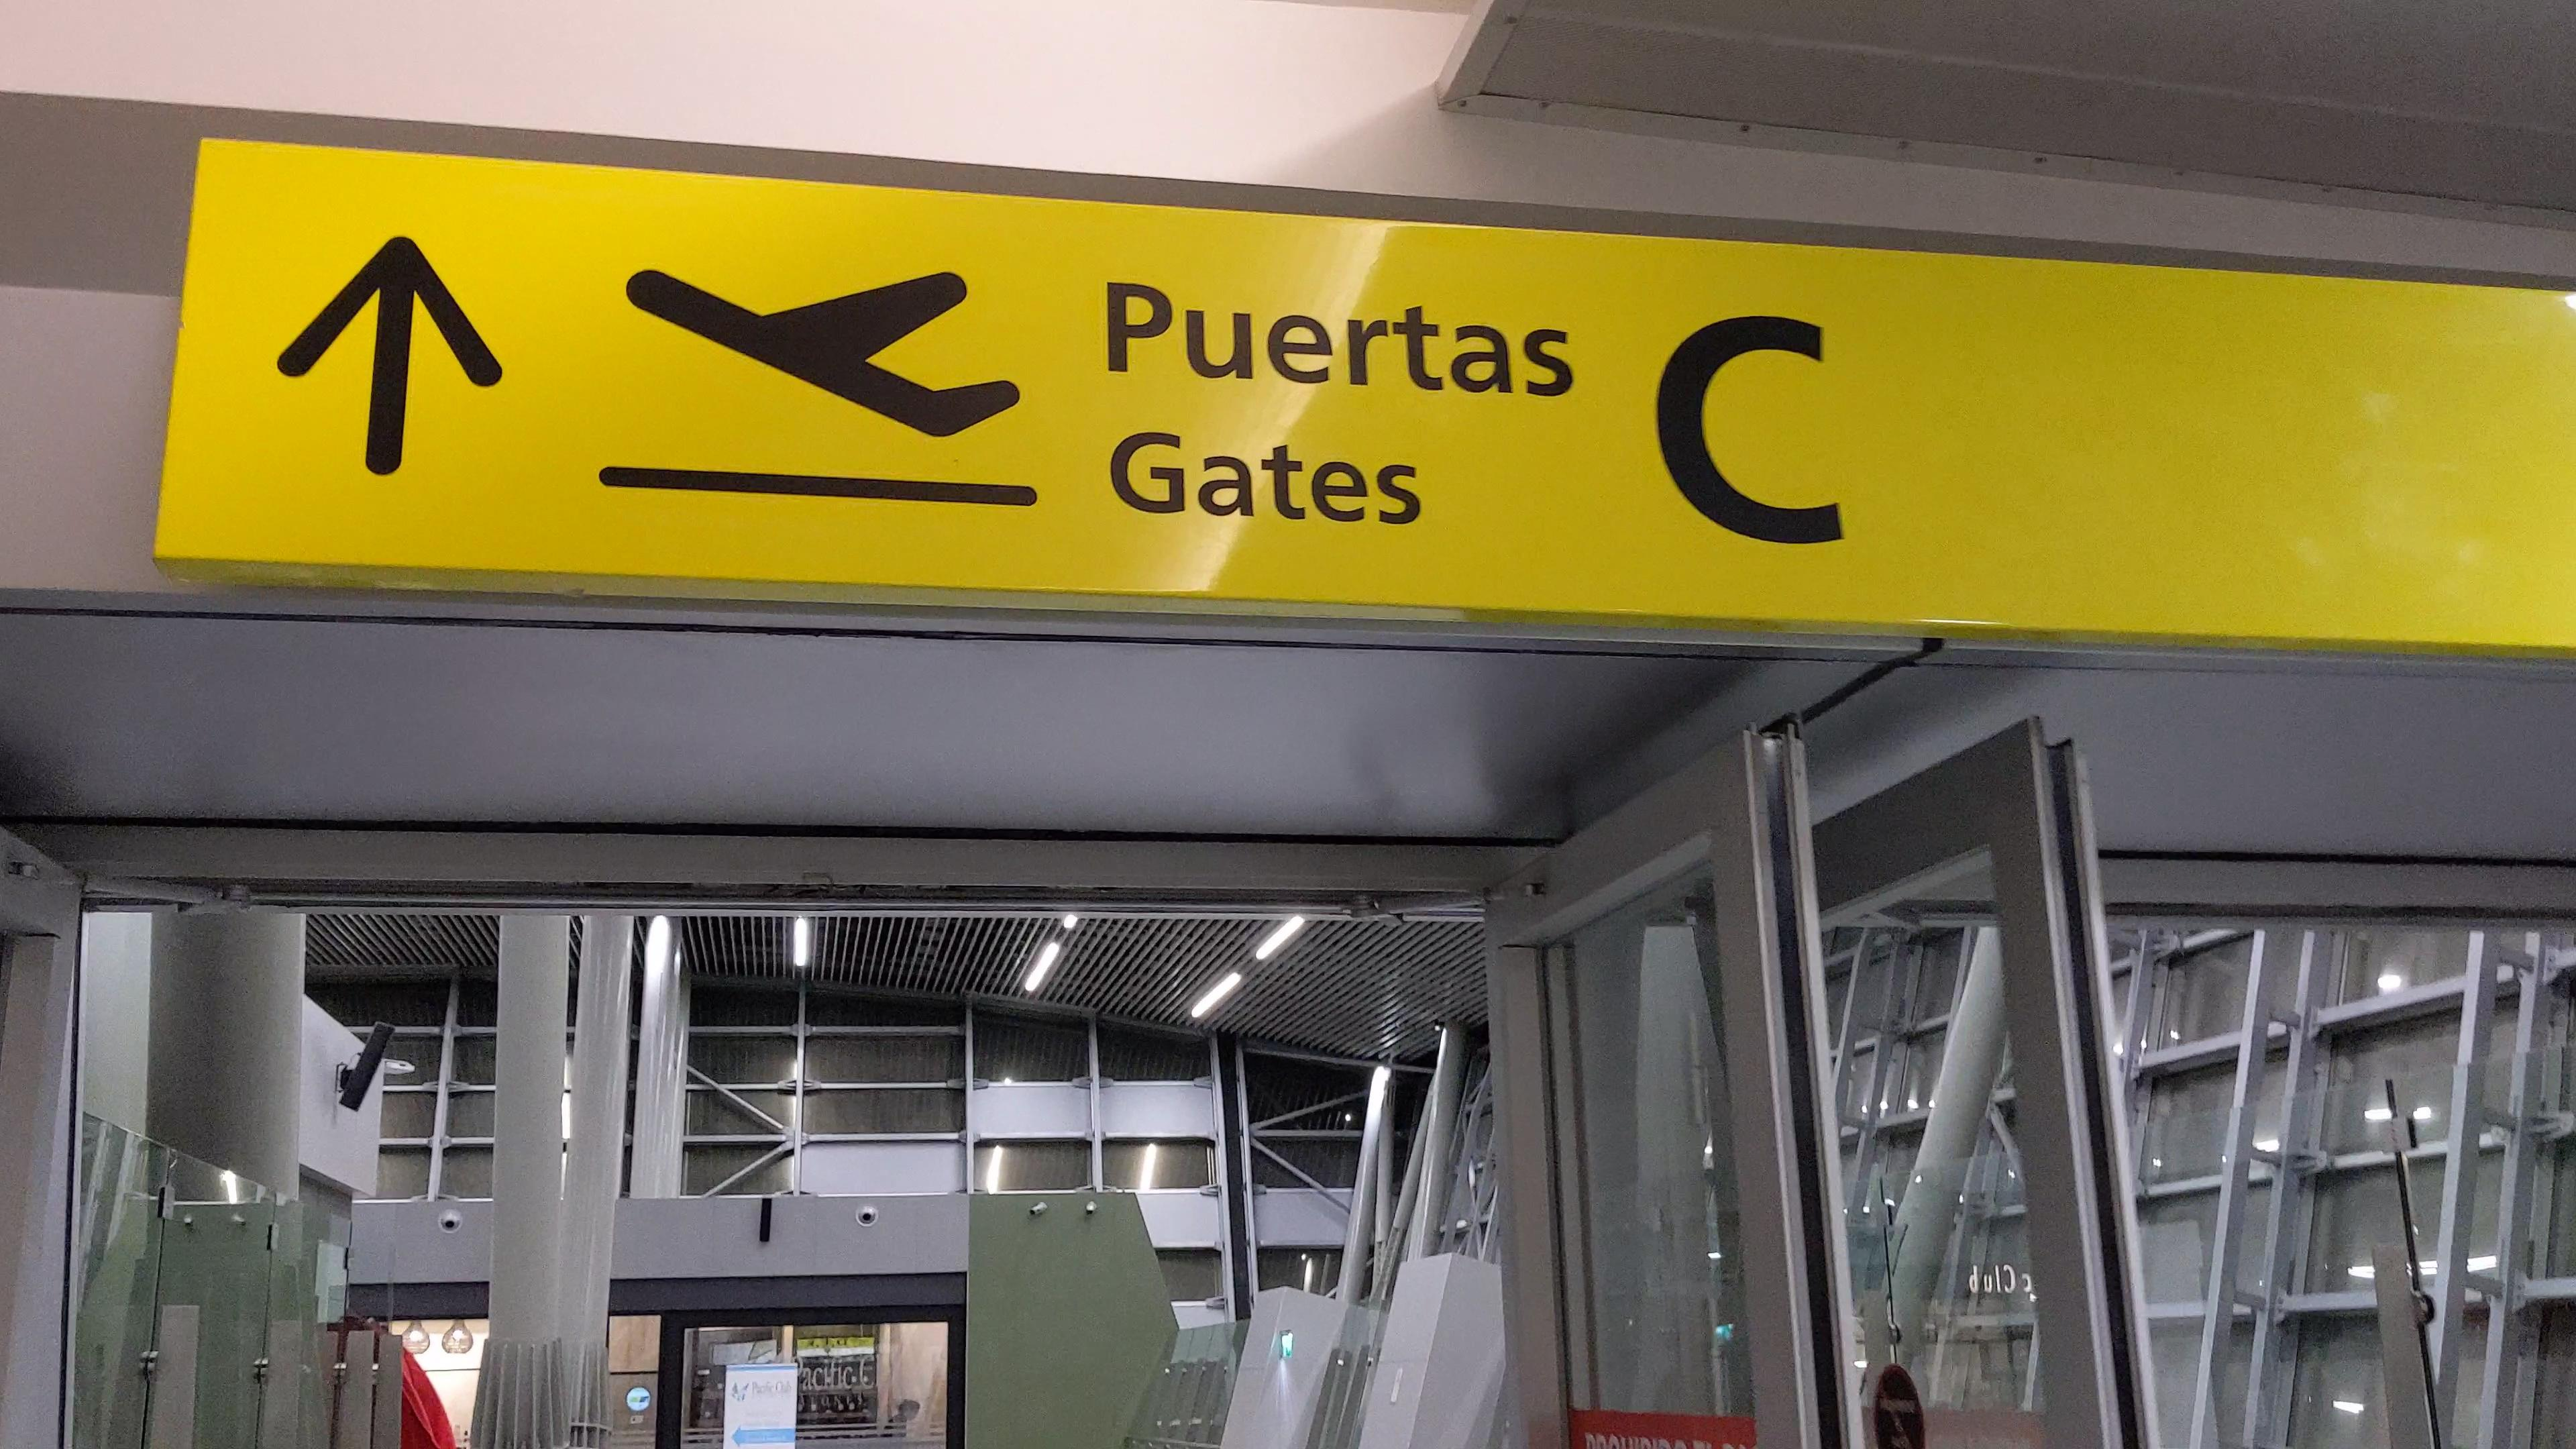airplane symbol: (617, 253, 1026, 446)
thin up arrow: (272, 230, 510, 485)
